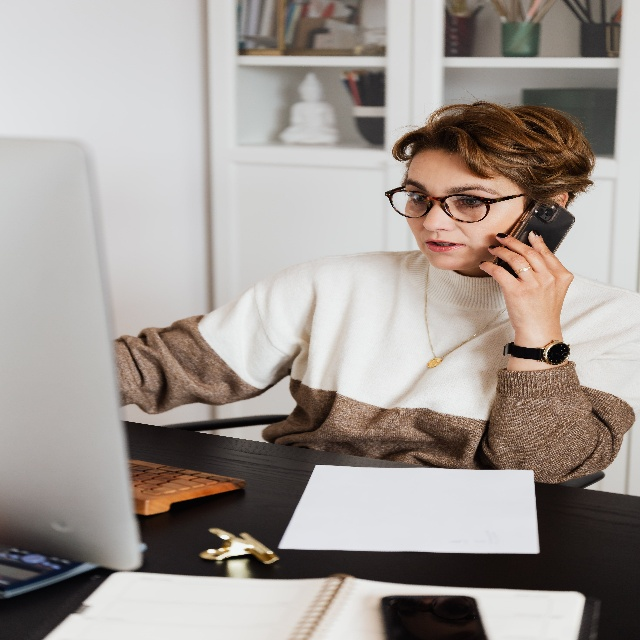Gafas: (384, 182, 526, 223)
Sin_guantes: (479, 229, 575, 338)
